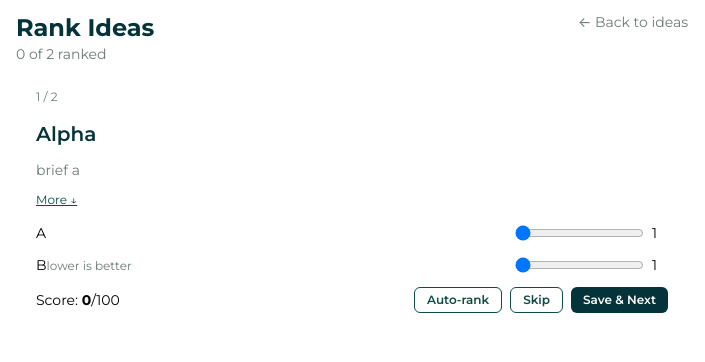
Test: Rank › surfaces the AI stub error and stays on the idea
This screenshot has width=705, height=362.
Expected: the heading "Alpha" is shown, [36,122,96,146]
Click the button "Auto-rank".
click(458, 300)  # box [414,287,502,313]
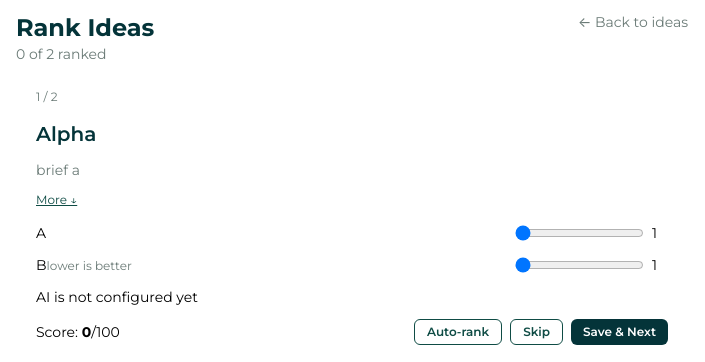
Expected: the heading "Alpha" is shown, [36,122,96,146]
Now the message reads "AI is not configured yet", box [36,288,198,306]
